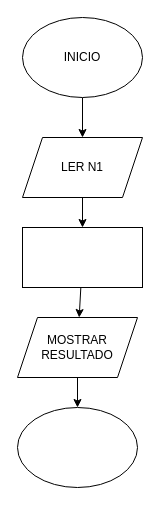
Image size: 160x505. Some labels were removed from this diagram. The centre of each missing label's shape, as x and y in pixels:
DOBRAR: the point at 82,257
FIM: the point at 77,447
